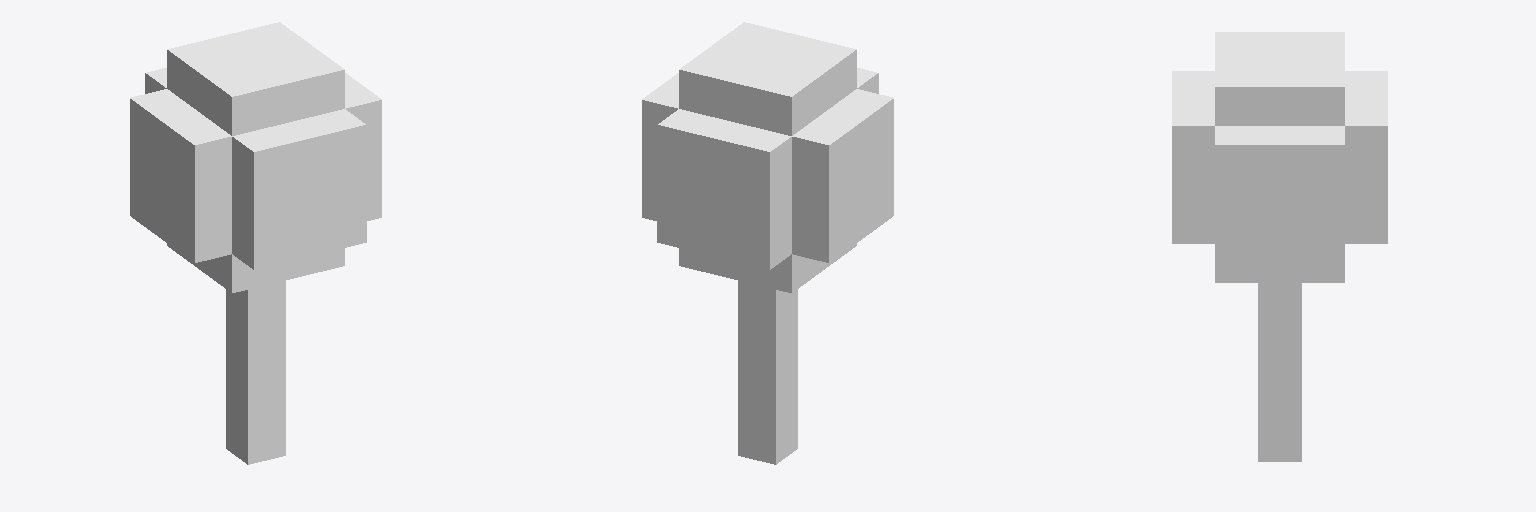
File: RedPin.obj
3 renders of one model, left to right at view 1: azimuth 30°, elevation 25°; view 2: azimuth 150°, elevation 25°; view 3: azimuth 270°, elevation 25°, orthographic.
Bounding box in the file's own units: 5 × 10 × 5.